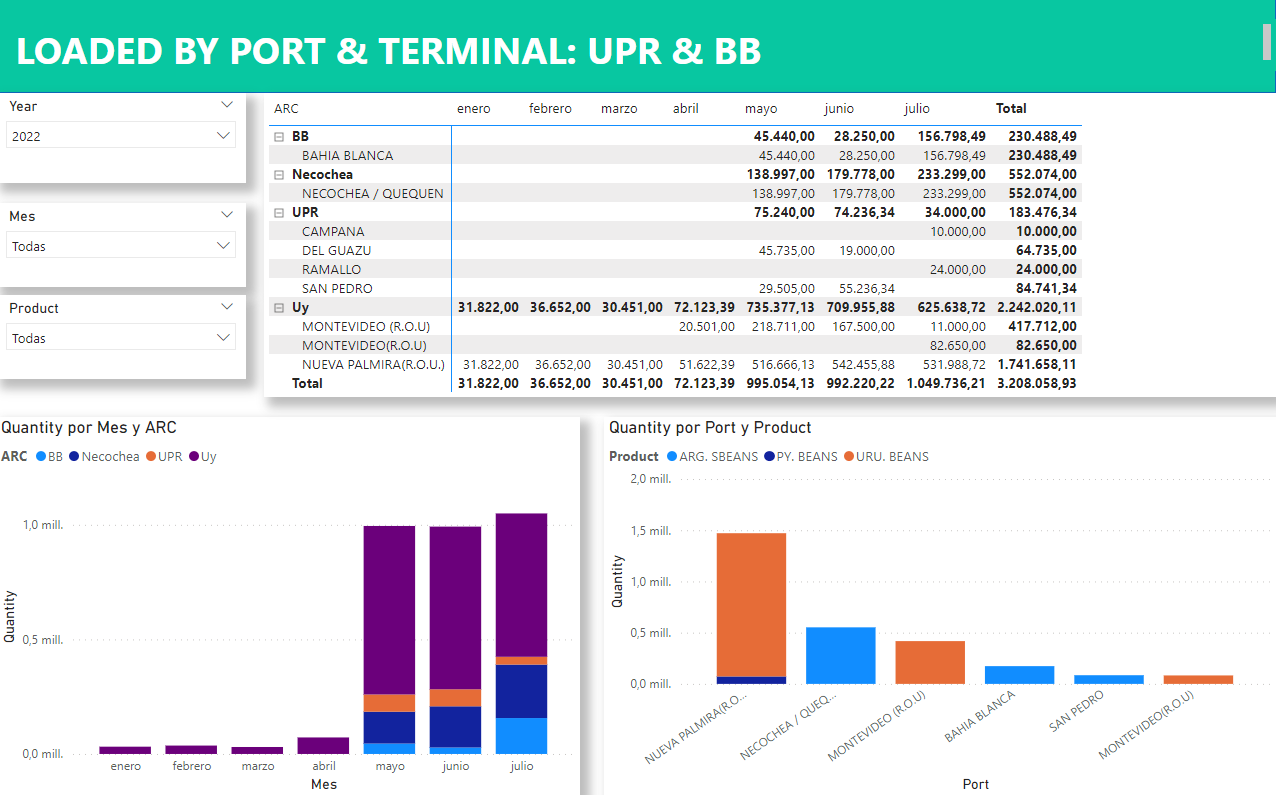

Layout of this report page (visuals, bound fields, positions):
{"tool":"powerbi","page":{"name":"Loaded by Port & Terminal ","canvas":[1280,800],"ordinal":3},"visuals":[{"type":"textbox","box":[0,30,1280,34],"z":0},{"type":"shape","box":[0,0,1280,96],"z":1000},{"type":"textbox","box":[0,22,1280,52],"z":2000},{"type":"columnChart","fields":{"Y":["Sum(LineupExpo.Quantity)"],"Series":["LineupExpo.ARC"],"Category":["LineupExpo.Month.Variación.Jerarquía de fechas.Mes"]},"box":[0,420,584,380],"z":3000},{"type":"slicer","fields":{"Values":["LineupExpo.Year"]},"box":[0,96,250,90],"z":4000},{"type":"slicer","fields":{"Values":["LineupExpo.Month.Variación.Jerarquía de fechas.Mes"]},"box":[0,206,250,84],"z":5000},{"type":"slicer","fields":{"Values":["LineupExpo.Product"]},"box":[0,298,250,84],"z":6000},{"type":"columnChart","fields":{"Y":["Sum(LineupExpo.Quantity)"],"Series":["LineupExpo.Product"],"Category":["LineupExpo.Port"]},"box":[608,420,672,380],"z":7000},{"type":"pivotTable","fields":{"Rows":["LineupExpo.ARC","LineupExpo.Port"],"Values":["Sum(LineupExpo.Quantity)"],"Columns":["LineupExpo.Month.Variación.Jerarquía de fechas.Mes","LineupExpo.Month.Variación.Jerarquía de fechas.Día"]},"box":[268,96,1012,304],"z":8000}]}

Visuals, with their boxes in screenshot pixels (x1, y1, x2, y2), scaled from the page's 1280x800 canvas onto the 1276x795 screenshot:
textbox: [x1=0, y1=30, x2=1275, y2=64]
shape: [x1=0, y1=0, x2=1275, y2=95]
textbox: [x1=0, y1=22, x2=1275, y2=74]
columnChart - Sum(LineupExpo.Quantity) x LineupExpo.ARC: [x1=0, y1=417, x2=582, y2=794]
slicer - LineupExpo.Year: [x1=0, y1=95, x2=249, y2=185]
slicer - LineupExpo.Month.Variación.Jerarquía de fechas.Mes: [x1=0, y1=205, x2=249, y2=288]
slicer - LineupExpo.Product: [x1=0, y1=296, x2=249, y2=380]
columnChart - Sum(LineupExpo.Quantity) x LineupExpo.Product: [x1=606, y1=417, x2=1275, y2=794]
pivotTable - LineupExpo.ARC x LineupExpo.Port: [x1=267, y1=95, x2=1275, y2=398]
